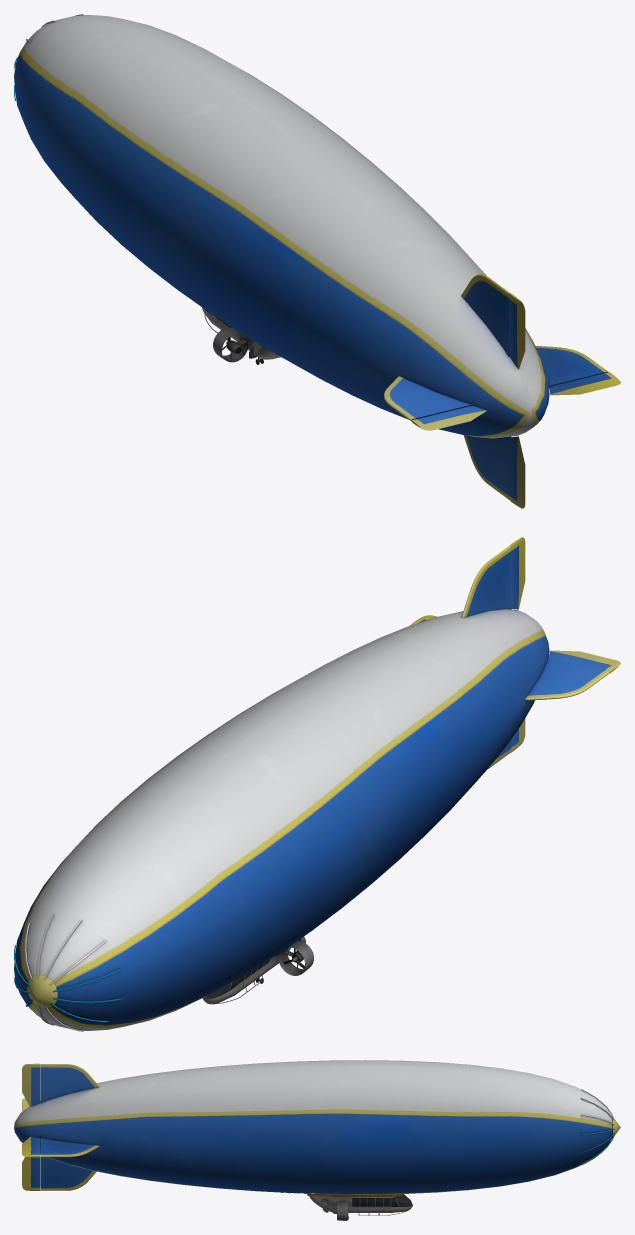
3 renders of one model, top to bottom at view 1: azimuth 30°, elevation 25°; view 2: azimuth 150°, elevation 25°; view 3: azimuth 270°, elevation 25°, orthographic. The views are drawn at different scales.
Visible parts, largest first — view 1: 对象001; view 2: 对象001; view 3: 对象001.
Part boxes in pixels (bbox=[...]): 对象001: bbox=[14, 14, 620, 508]; 对象001: bbox=[14, 537, 620, 1031]; 对象001: bbox=[14, 1060, 620, 1220].
Size of the model in its own units: 13.87 by 17.03 by 60.24.
5 materials, 5 textured.
